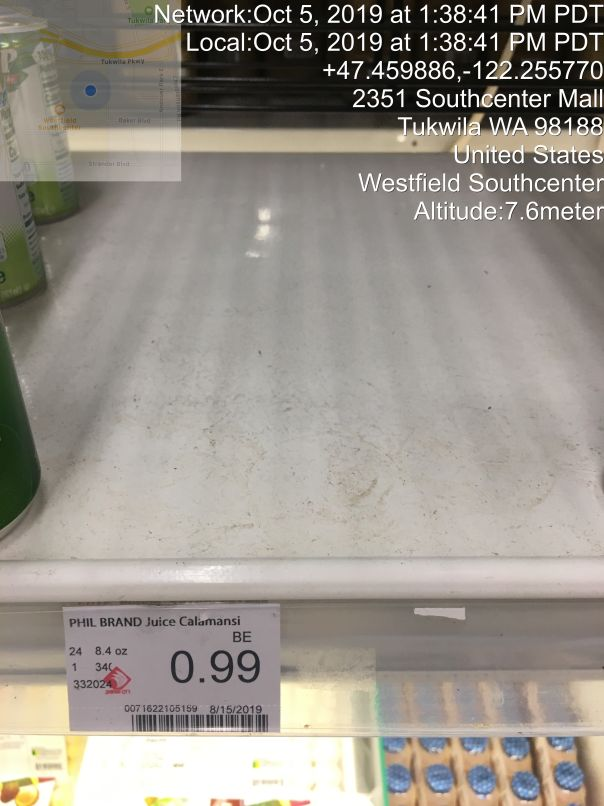Label: (49, 582, 313, 754)
Location: (341, 75, 604, 202)
Time: (140, 2, 604, 57)
Void: (95, 140, 577, 537)
